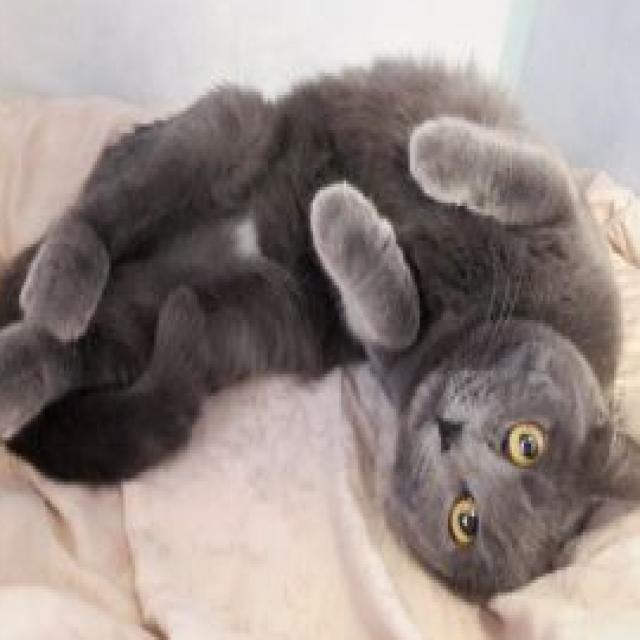Russian Blue: (0, 44, 640, 608)
